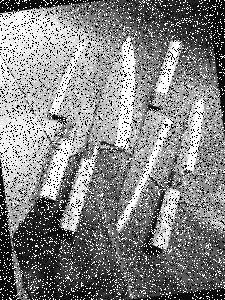knife: (55, 29, 137, 251), (107, 35, 186, 242), (31, 31, 115, 209), (145, 91, 204, 261)
